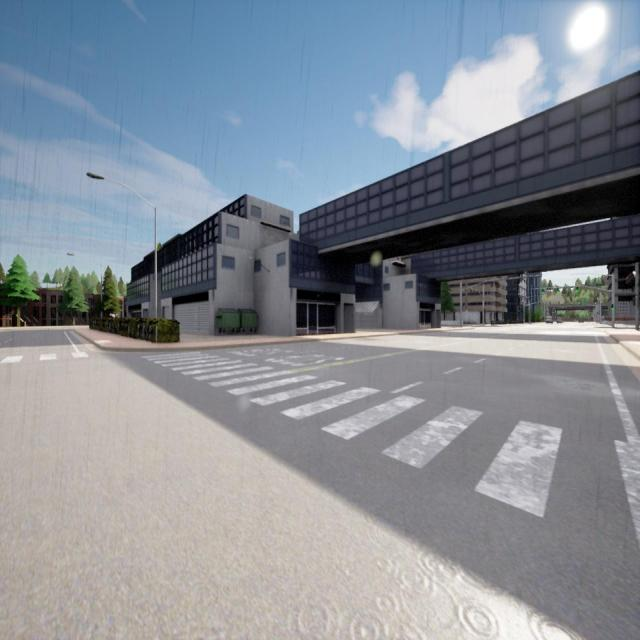Vehicle: (545, 316, 553, 324), (556, 317, 564, 324), (578, 319, 584, 323)
traffic_light: (611, 304, 614, 310), (576, 287, 579, 292), (557, 288, 559, 294), (542, 288, 544, 294), (491, 281, 493, 287), (470, 289, 472, 294), (474, 290, 475, 294), (478, 291, 478, 295)
